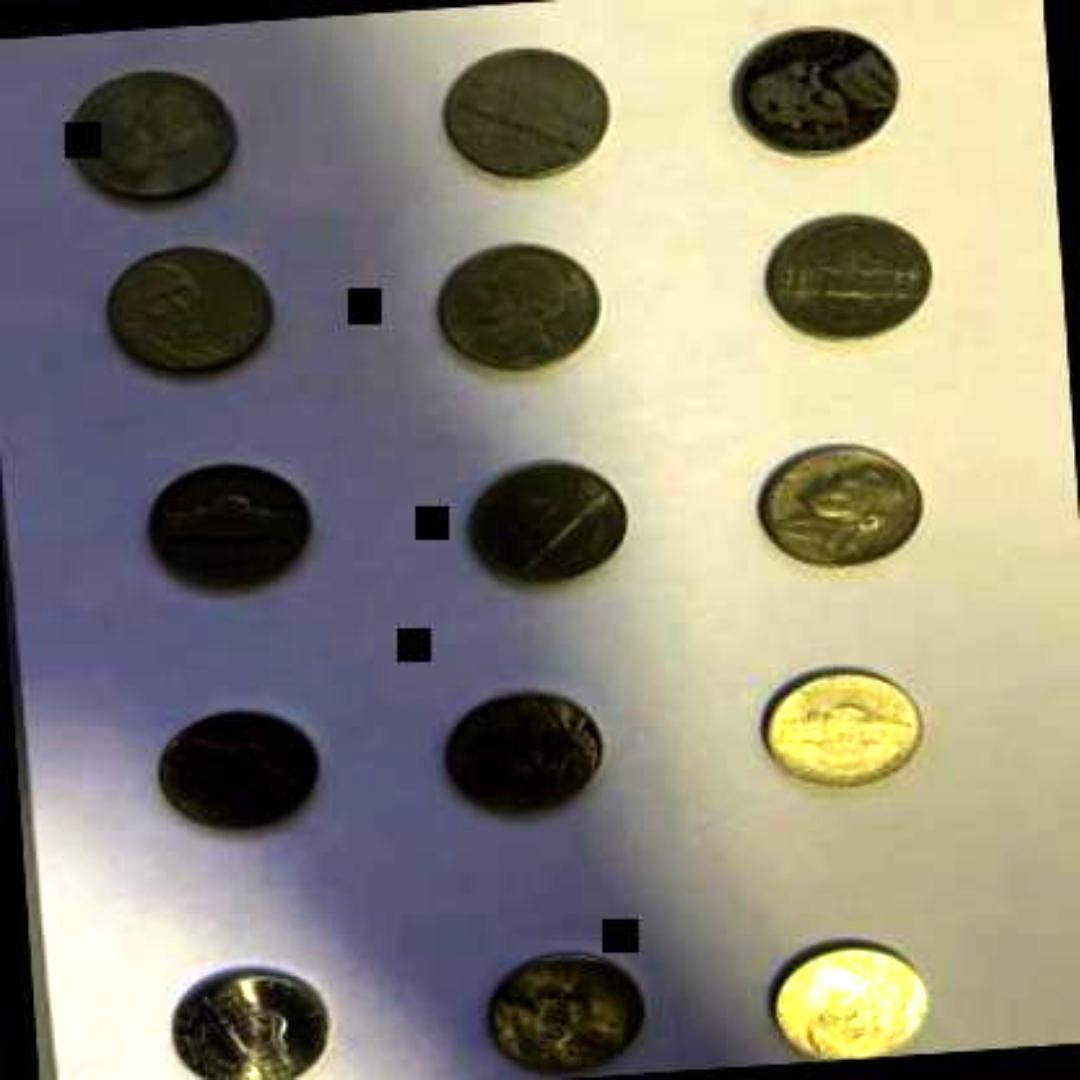Nickel: (719, 8, 911, 172), (426, 33, 622, 191), (126, 444, 318, 598), (442, 450, 636, 596), (748, 426, 934, 578), (98, 231, 278, 381), (58, 56, 238, 206), (750, 655, 929, 805), (756, 203, 936, 345), (424, 235, 598, 377), (757, 924, 933, 1064), (434, 677, 602, 819), (152, 698, 324, 835), (156, 952, 340, 1080), (477, 940, 645, 1078)
